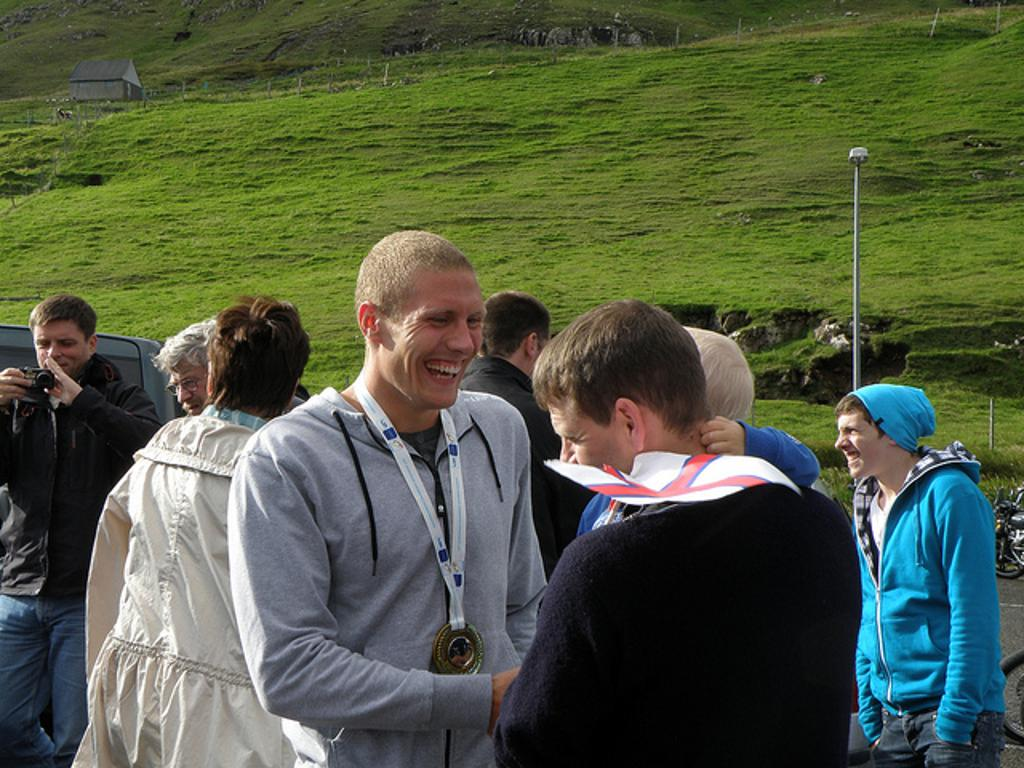face: (377, 277, 483, 408), (553, 399, 653, 505), (835, 410, 889, 478), (170, 354, 219, 420), (34, 325, 87, 384)
